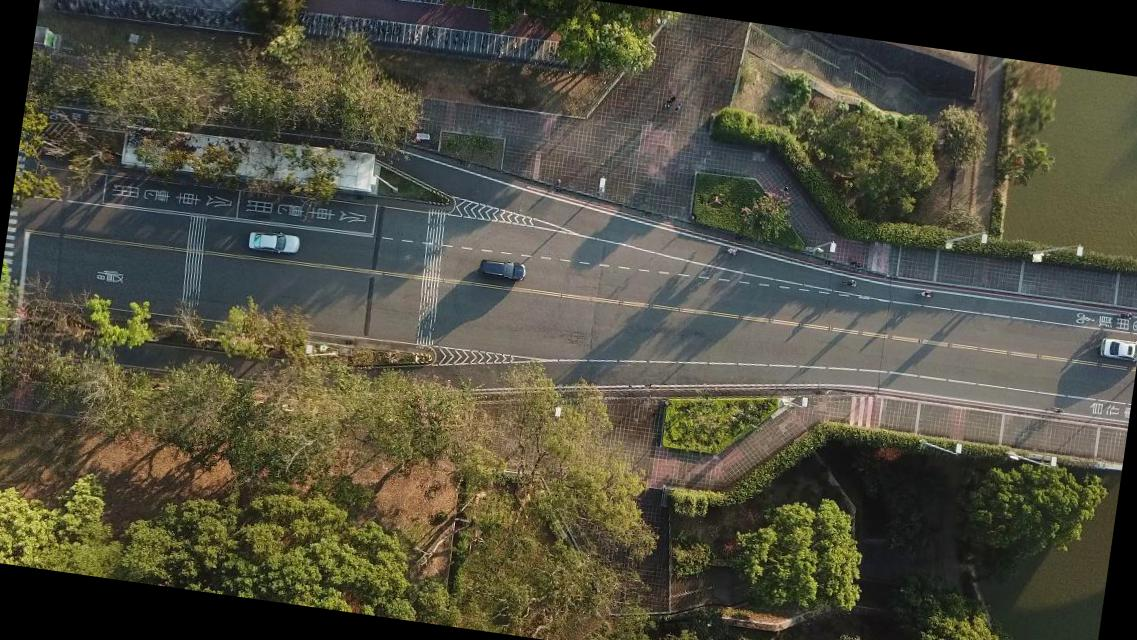vehicle: (246, 228, 302, 258), (478, 258, 528, 283), (1098, 338, 1136, 364)
